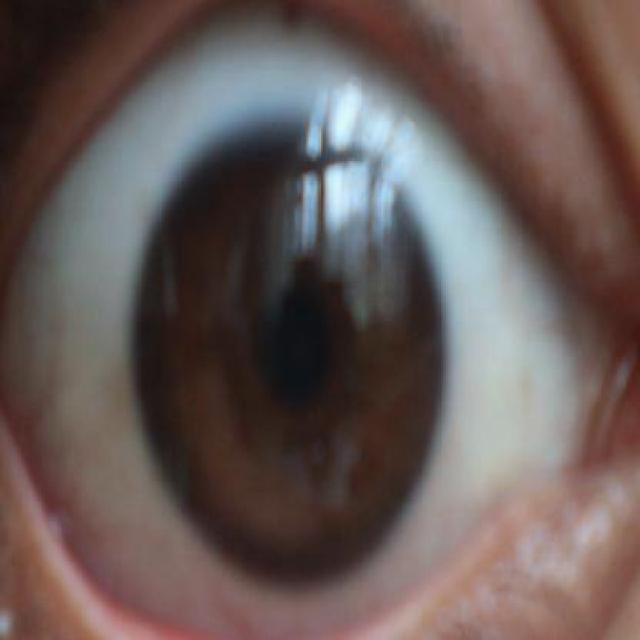Normal: (135, 117, 443, 587)
